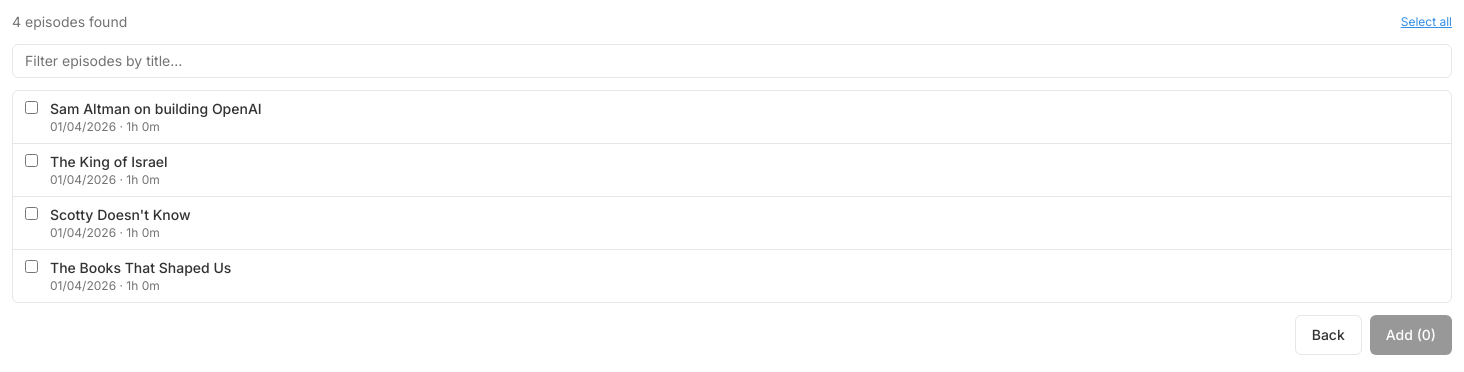
Test case: episode filter (#982) › shows how much of the feed is visible while filtering
expect the text "4 episodes found" is shown: met, box [12,12,127,32]
Type "the" into the field with placeholder "Filter episodes by title...".
click(732, 61); type("the")  # box [12,44,1452,78]
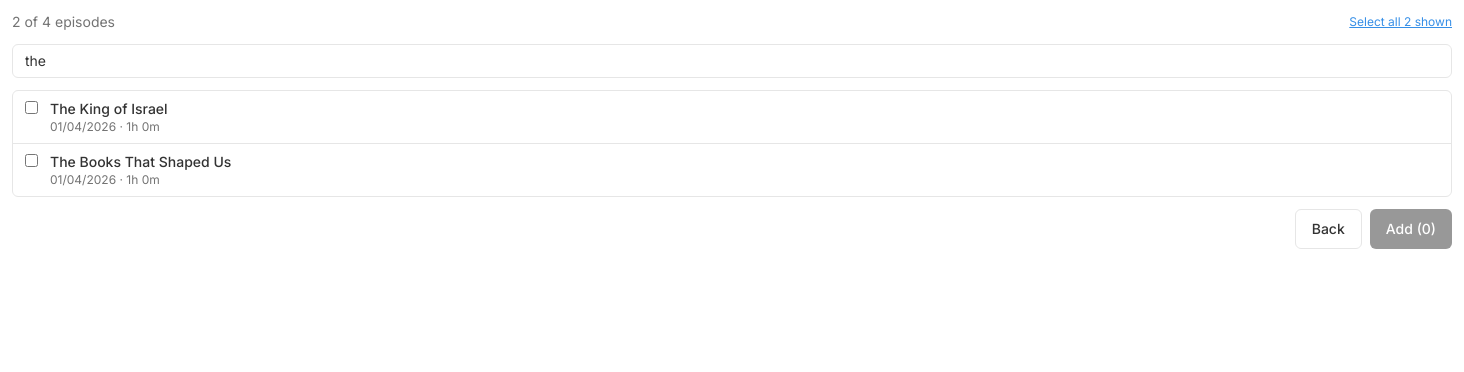
expect the text "2 of 4 episodes" is shown: met, box [12,12,115,32]
